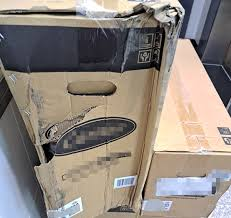damaged package: (107, 1, 183, 81), (32, 102, 110, 171), (35, 161, 71, 213)
undamaged: (139, 38, 230, 217)
